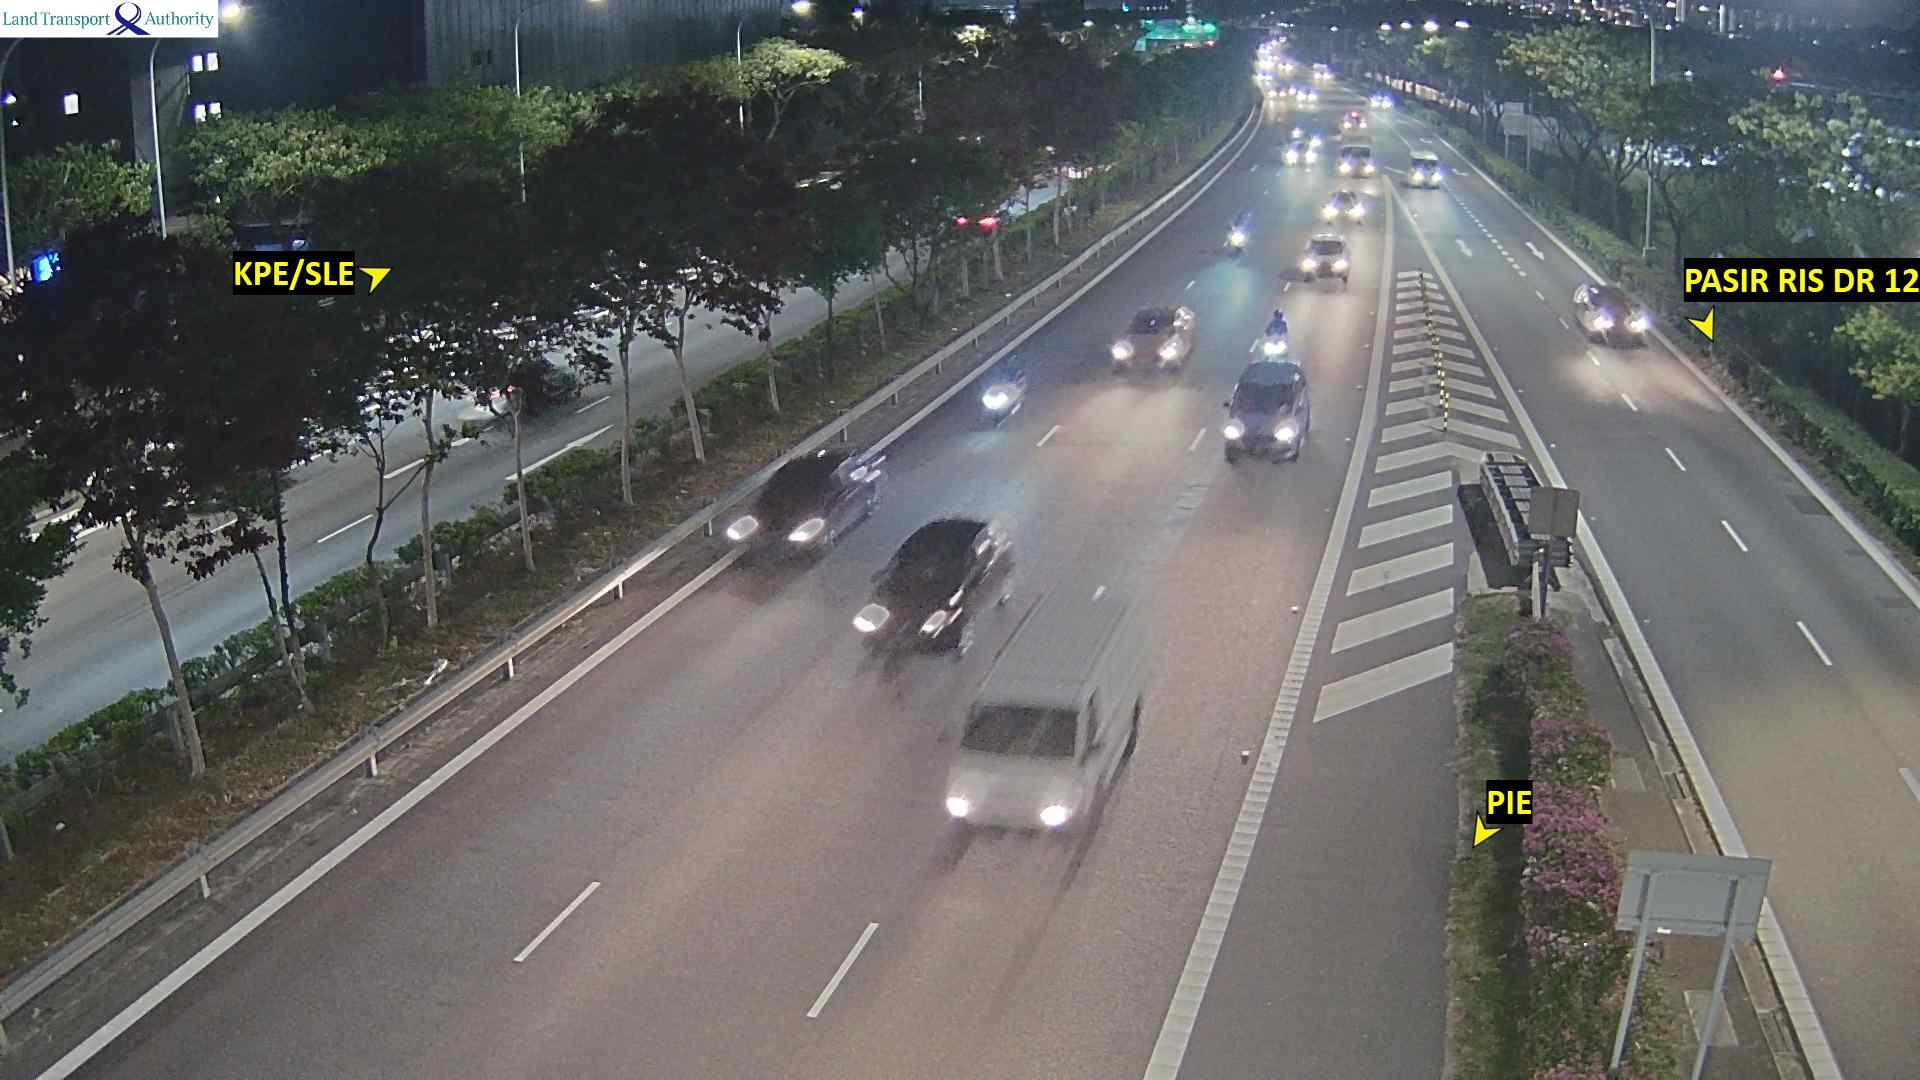incoming: (936, 699, 1106, 831), (856, 551, 990, 666), (724, 465, 847, 584), (1211, 378, 1319, 462), (1104, 315, 1184, 380), (1578, 289, 1648, 342), (1302, 240, 1352, 289), (976, 384, 1014, 433), (1324, 194, 1369, 225), (1410, 156, 1445, 189), (1341, 148, 1374, 182), (1283, 140, 1320, 167), (1259, 340, 1290, 365), (1225, 227, 1247, 253), (1370, 92, 1395, 113), (1344, 111, 1367, 132), (1266, 86, 1287, 105), (1312, 62, 1333, 82), (1299, 90, 1319, 108), (1280, 62, 1299, 75), (1257, 73, 1274, 83)
